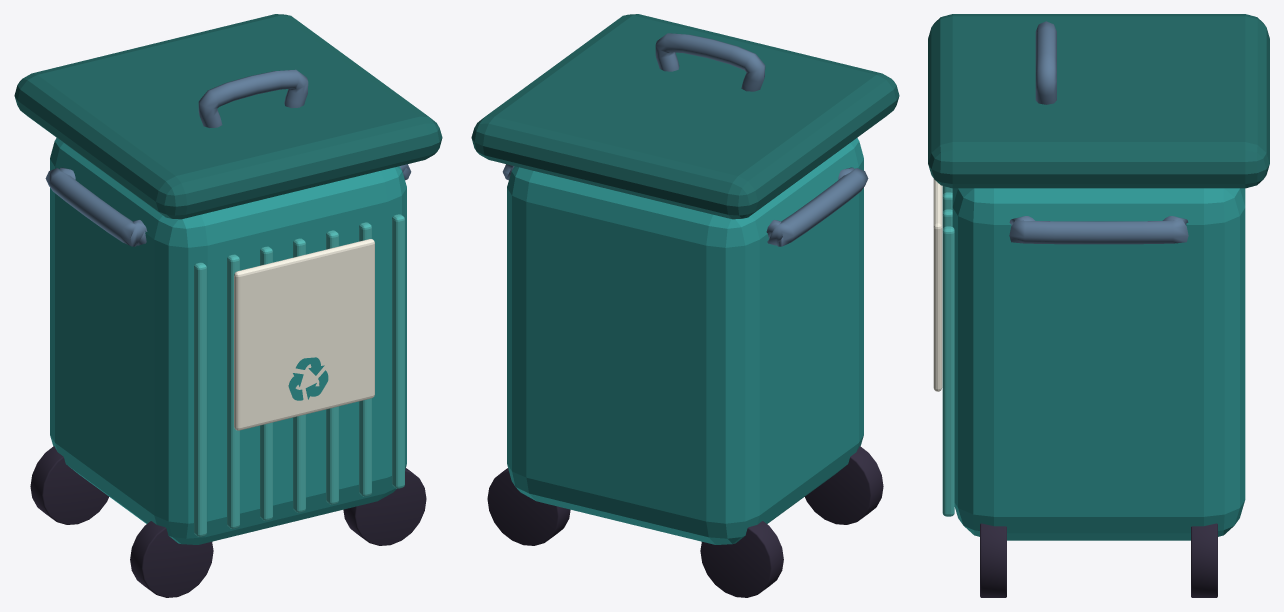
Rendered from recycling_bin.glb.
The picture shows the model from 3 angles, left to right: view 1: azimuth 30°, elevation 25°; view 2: azimuth 150°, elevation 25°; view 3: azimuth 270°, elevation 25°; orthographic projection. The views are drawn at different scales.
Parts seen in each view (by area): view 1: Tapered_body, Hinged_lid, Recycling_badge, Rubber_wheel.001, Rubber_wheel, Reinforcing_rib.006, Reinforcing_rib, Rubber_wheel.003, Lid_handle, Side_lifting_handle, Reinforcing_rib.001, Reinforcing_rib.002 (+4 smaller); view 2: Tapered_body, Hinged_lid, Rubber_wheel, Rubber_wheel.001, Rubber_wheel.002, Lid_handle, Side_lifting_handle; view 3: Tapered_body, Hinged_lid, Side_lifting_handle.001, Reinforcing_rib.006, Recycling_badge, Rubber_wheel.002, Rubber_wheel.003, Lid_handle.
Boxes of the visible parts, left/top/right/bottom form: Tapered_body: left=50, top=138, right=406, bottom=544; Hinged_lid: left=14, top=14, right=442, bottom=219; Recycling_badge: left=234, top=239, right=374, bottom=430; Rubber_wheel.001: left=130, top=521, right=213, bottom=597; Rubber_wheel: left=30, top=446, right=108, bottom=524; Reinforcing_rib.006: left=392, top=214, right=404, bottom=488; Reinforcing_rib: left=194, top=262, right=206, bottom=536; Rubber_wheel.003: left=343, top=468, right=426, bottom=545; Lid_handle: left=198, top=69, right=308, bottom=127; Side_lifting_handle: left=45, top=167, right=147, bottom=246; Reinforcing_rib.001: left=227, top=254, right=239, bottom=528; Reinforcing_rib.002: left=260, top=246, right=272, bottom=520; Tapered_body: left=507, top=138, right=863, bottom=544; Hinged_lid: left=471, top=14, right=899, bottom=219; Rubber_wheel: left=700, top=521, right=783, bottom=597; Rubber_wheel.001: left=805, top=446, right=883, bottom=524; Rubber_wheel.002: left=487, top=468, right=570, bottom=545; Lid_handle: left=655, top=33, right=765, bottom=91; Side_lifting_handle: left=766, top=167, right=868, bottom=246; Tapered_body: left=952, top=188, right=1245, bottom=540; Hinged_lid: left=928, top=14, right=1269, bottom=188; Side_lifting_handle.001: left=1009, top=216, right=1188, bottom=244; Reinforcing_rib.006: left=942, top=226, right=954, bottom=516; Recycling_badge: left=933, top=179, right=942, bottom=391; Rubber_wheel.002: left=1191, top=523, right=1217, bottom=597; Rubber_wheel.003: left=980, top=523, right=1006, bottom=597; Lid_handle: left=1035, top=21, right=1056, bottom=104.
Bounding box in the file's own units: 0.7258 × 1.13 × 0.7.
